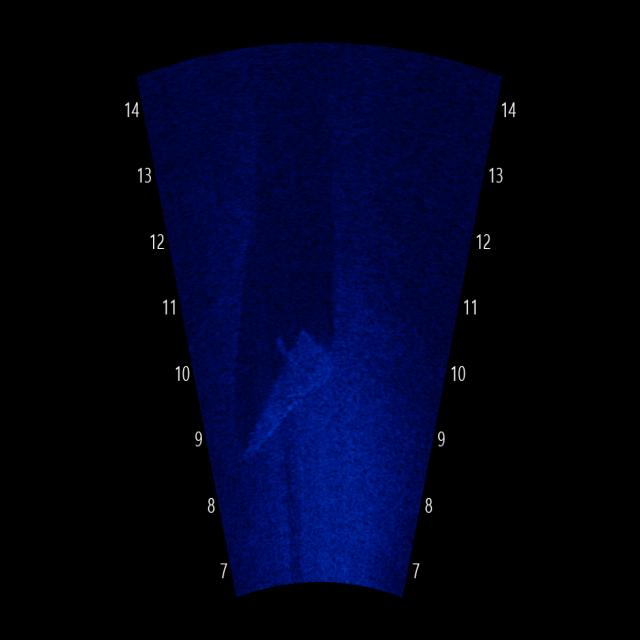triangle: (240, 314, 342, 462)
